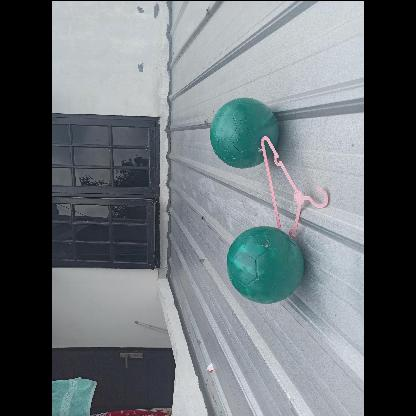green_ball: (224, 223, 304, 303), (209, 96, 280, 167)
